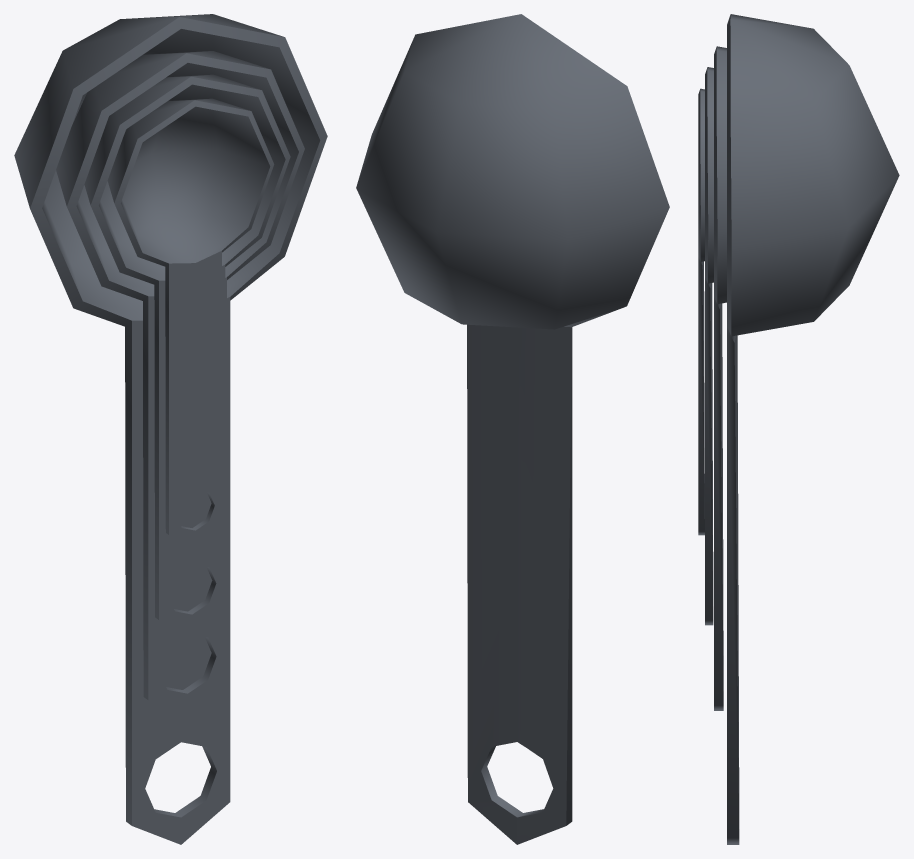
Rendered from mspoon_measuring_spoons_stack_medium.glb.
The picture shows the model from 3 angles, left to right: view 1: azimuth 30°, elevation 25°; view 2: azimuth 150°, elevation 25°; view 3: azimuth 270°, elevation 25°; orthographic projection.
Parts seen in each view (by area): view 1: mspoon measuring spoons stack medium; view 2: mspoon measuring spoons stack medium; view 3: mspoon measuring spoons stack medium.
Boxes of the visible parts, left/top/right/bottom form: mspoon measuring spoons stack medium: left=14, top=14, right=327, bottom=844; mspoon measuring spoons stack medium: left=356, top=14, right=669, bottom=844; mspoon measuring spoons stack medium: left=698, top=14, right=899, bottom=844.
Bounding box in the file's own units: 0.6742 × 1.79 × 0.3952.
Materials: 1 (1 with a texture image).
